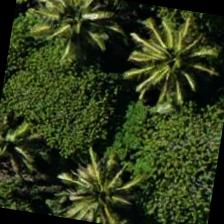Kelapa_Sawit: (122, 4, 223, 108), (53, 142, 155, 223), (21, 0, 121, 67), (0, 98, 61, 197)
